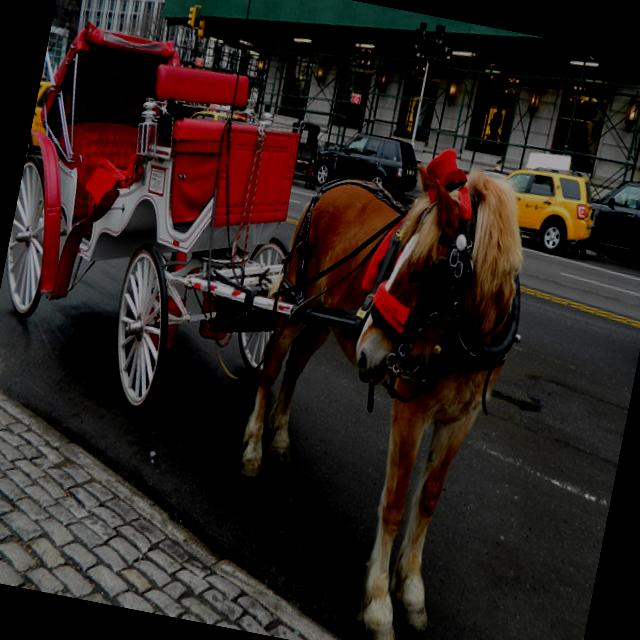Vehicle: (486, 155, 604, 263), (307, 126, 423, 201), (572, 170, 640, 269), (258, 114, 326, 173), (26, 78, 58, 164), (190, 106, 250, 130)
